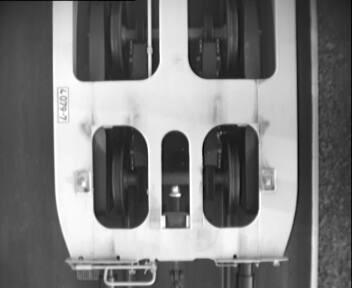Copy of Copy of Copy of wagon_scan: (82, 120, 266, 234)
